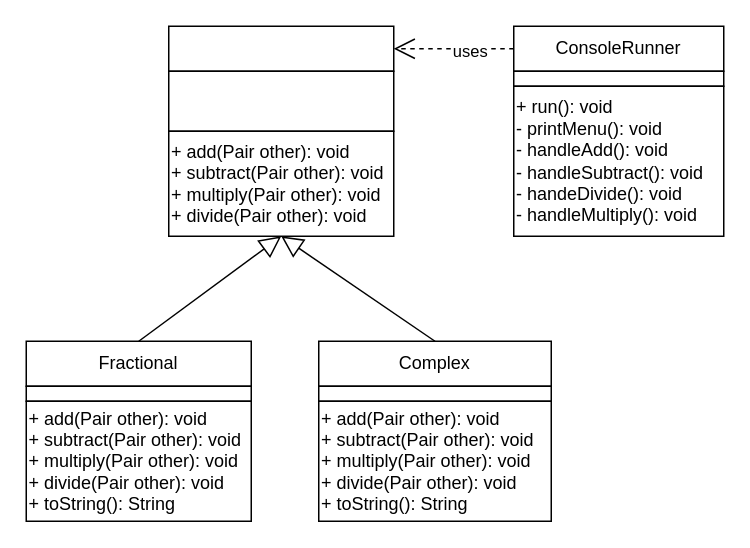
This 750x548 diagram has some shape labels left out. Here are the shapes that lost their labels. From the top down, the centre of each, then its label:
At pixel 280 48: "Pair".
At pixel 280 100: "# a: int # b: int".
